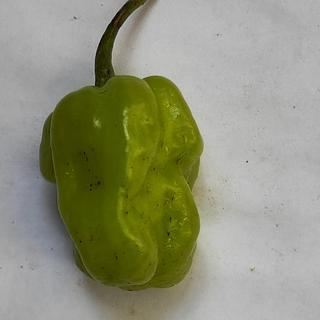Fly-bites: (173, 153, 184, 169), (112, 253, 124, 266), (165, 230, 173, 239), (78, 237, 84, 246), (96, 180, 103, 187), (168, 215, 174, 222), (85, 155, 90, 162), (89, 182, 94, 187), (125, 210, 130, 215), (89, 188, 93, 192)
